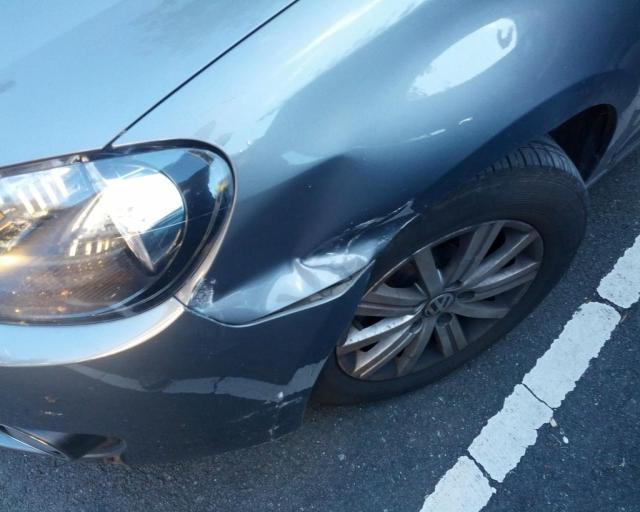dent: (165, 181, 420, 349)
scratch: (221, 366, 312, 448), (348, 109, 480, 159), (30, 387, 79, 424)
